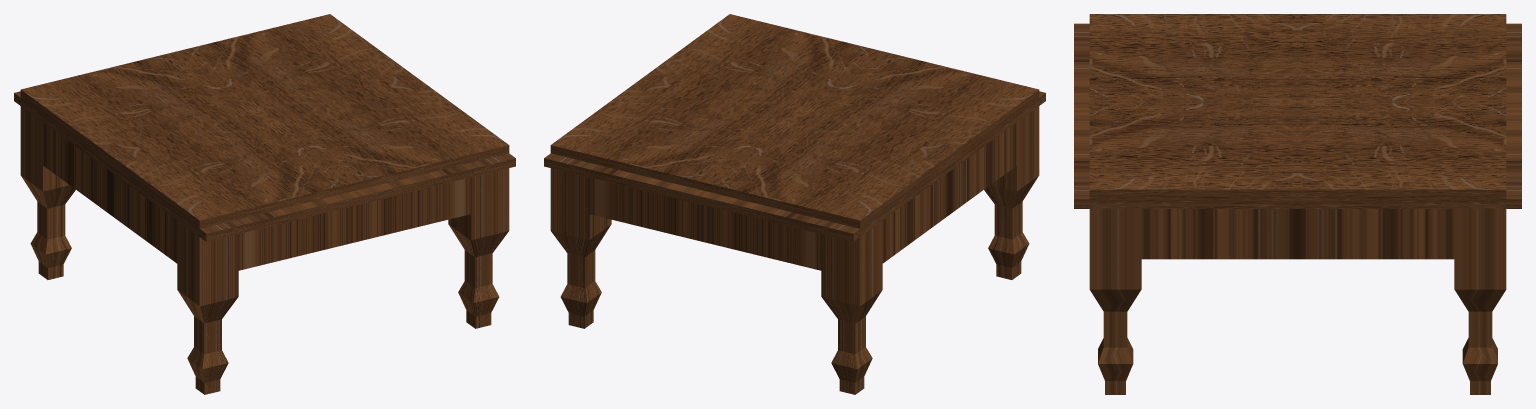
File: table.glb
The picture shows the model from 3 angles, left to right: view 1: azimuth 30°, elevation 25°; view 2: azimuth 150°, elevation 25°; view 3: azimuth 270°, elevation 25°; orthographic projection. The views are drawn at different scales.
Visible parts, largest first — view 1: Cube; view 2: Cube; view 3: Cube.
Part boxes in pixels (x1,y1,x2,y2): Cube: (14, 14, 515, 394); Cube: (544, 14, 1045, 394); Cube: (1074, 14, 1521, 394).
Size of the model in its own units: 0.5 by 0.281 by 0.5385.
1 material, 1 textured.
